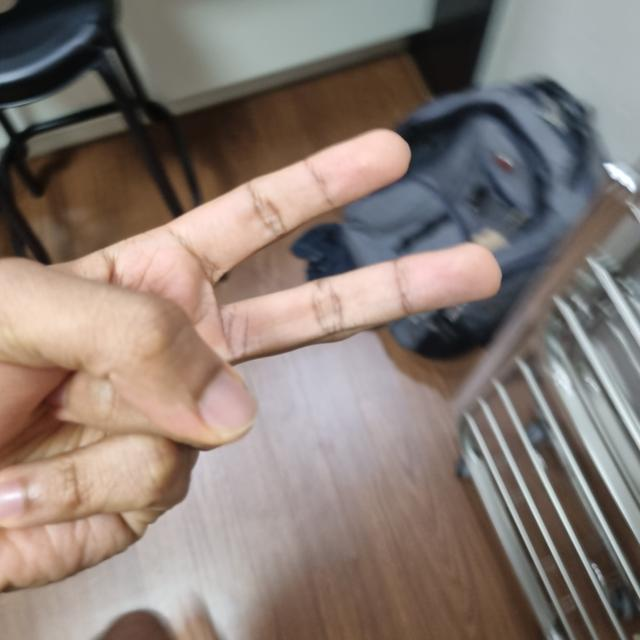Scissors: (0, 233, 239, 614)
